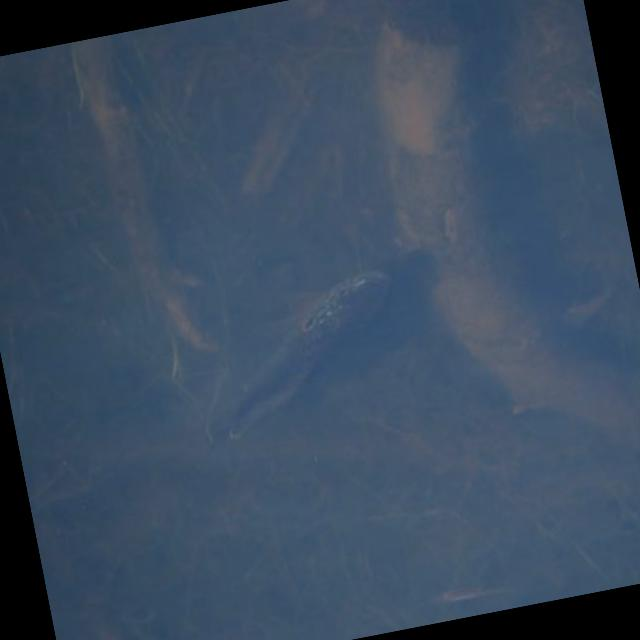Gunes Levregi: (176, 248, 427, 465)
